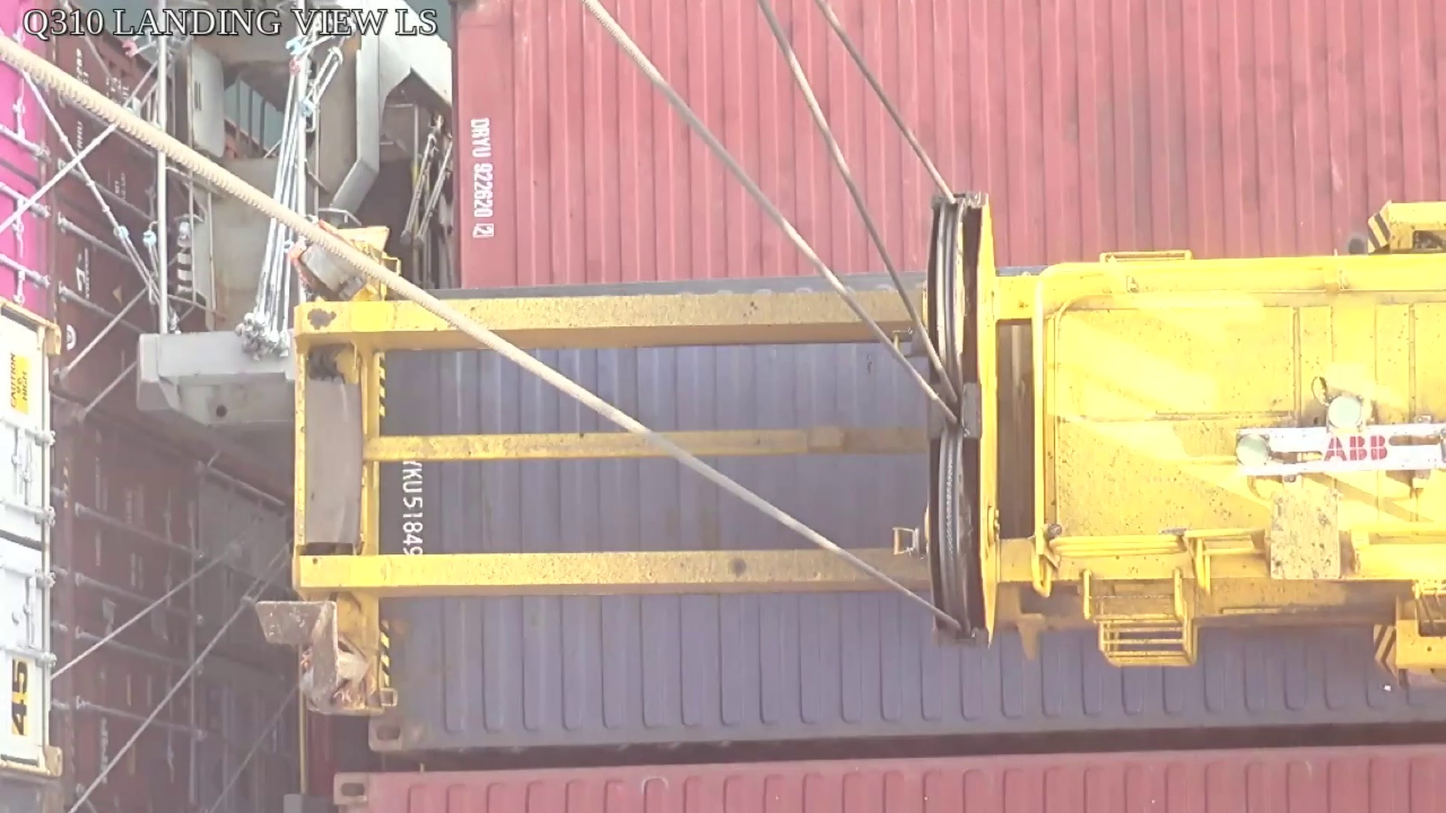aa: (923, 190, 1002, 646)
